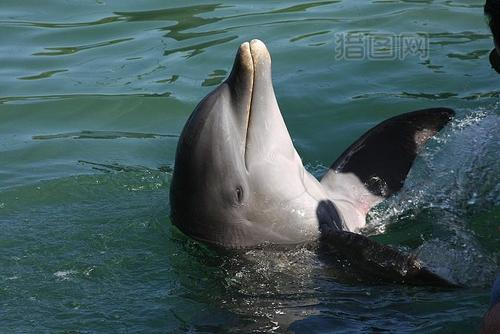fish: (168, 35, 464, 294)
